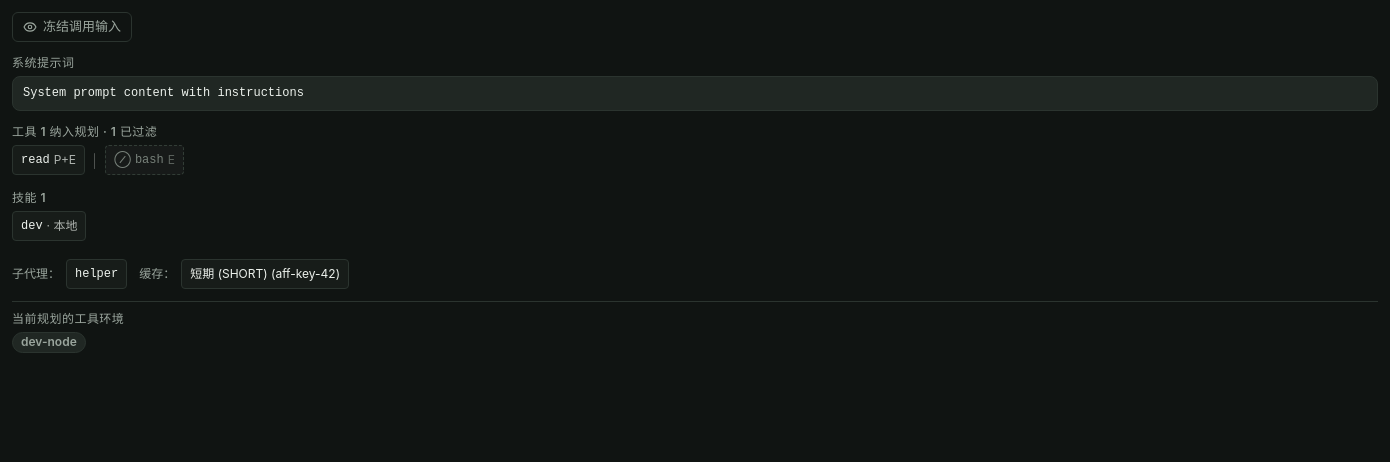
ThreadModelRequestDebug & Inspector › Subagents and Cache inspection › renders cache chip with clean summary, opens cache inspector with Cache Policy title and actual fields (SHORT)
Click the button with aria-label "缓存 短期 (SHORT) (aff-key-42)" at [265, 274], box top-left (181, 259), bottom-right (349, 289)
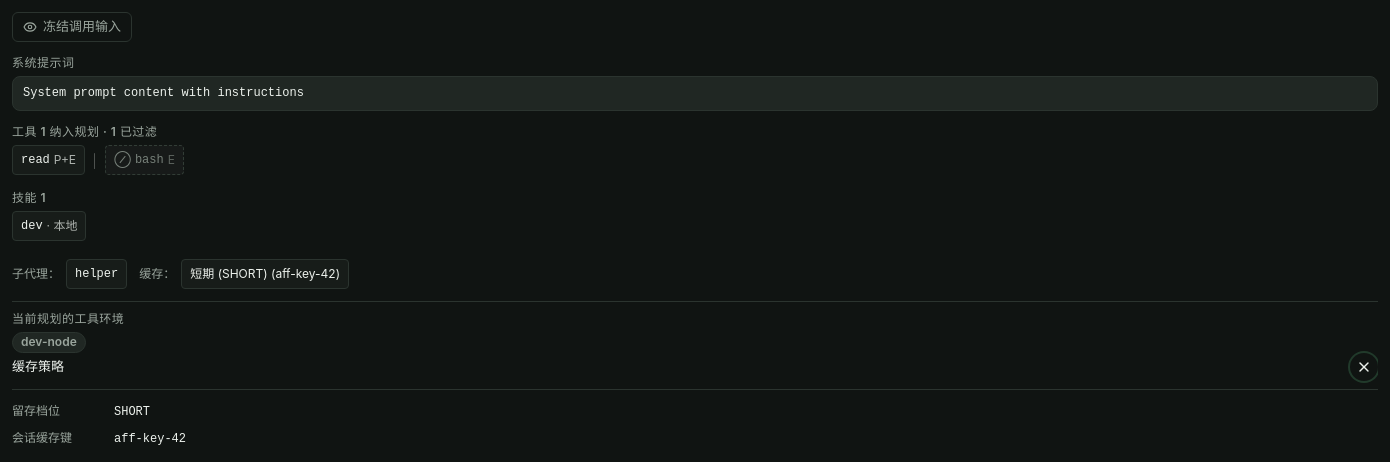
Expected: the heading "缓存策略" is shown, top-left (12, 357), bottom-right (64, 376)
Expected: the text "留存档位" is shown, top-left (12, 403), bottom-right (60, 418)
Expected: the text "SHORT" is shown, top-left (114, 405), bottom-right (150, 419)
Press Escape
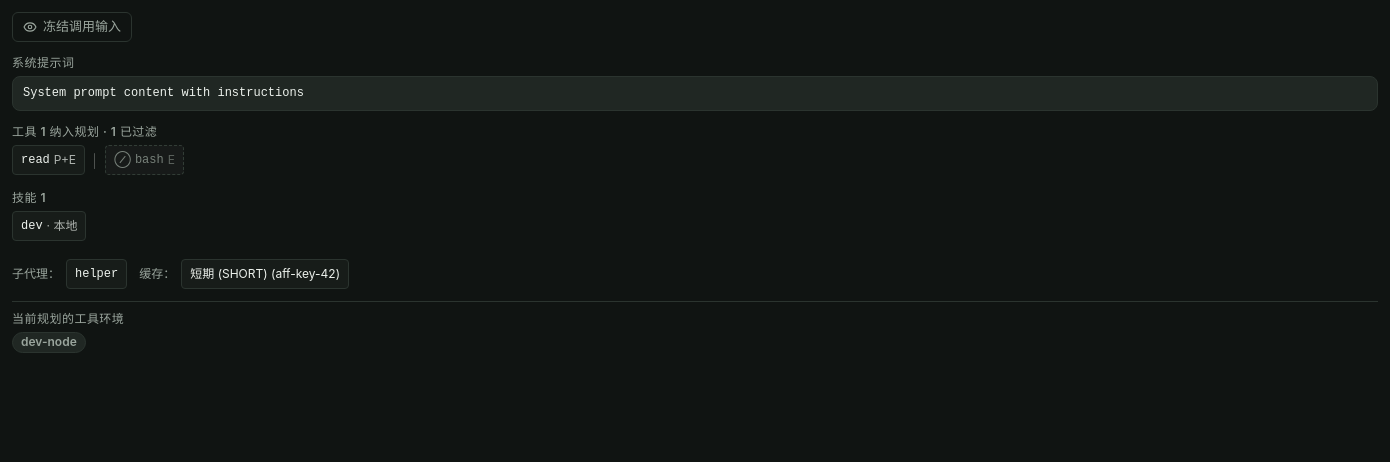
Expected: the element with test id "thread-debug-inspector" is gone
